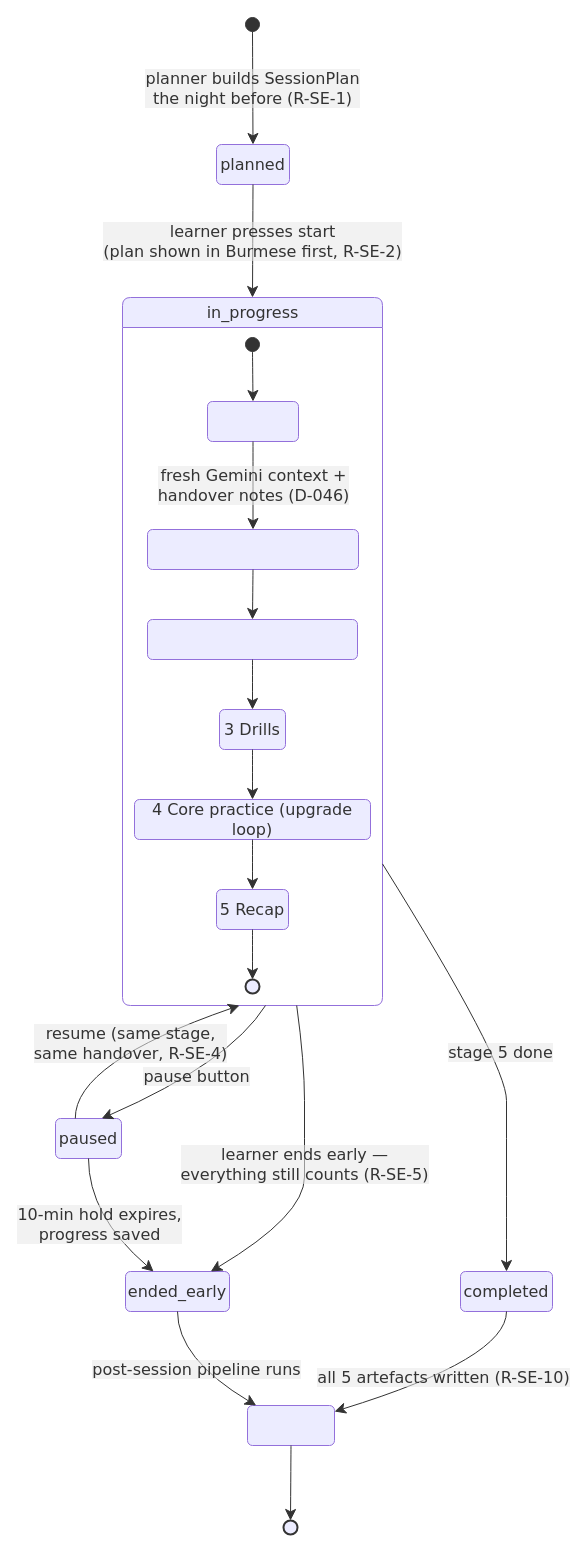
Image size: 587x1553. Some labels were removed from this diagram. The centre of each missing label's shape, as x and y in pixels:
"0 Greeting" goes at point 252,421.
"1 Review (recap ×3 always)" goes at point 252,549.
"2 Situation brief (Burmese)" goes at point 252,639.
"processed" goes at point 290,1425.
